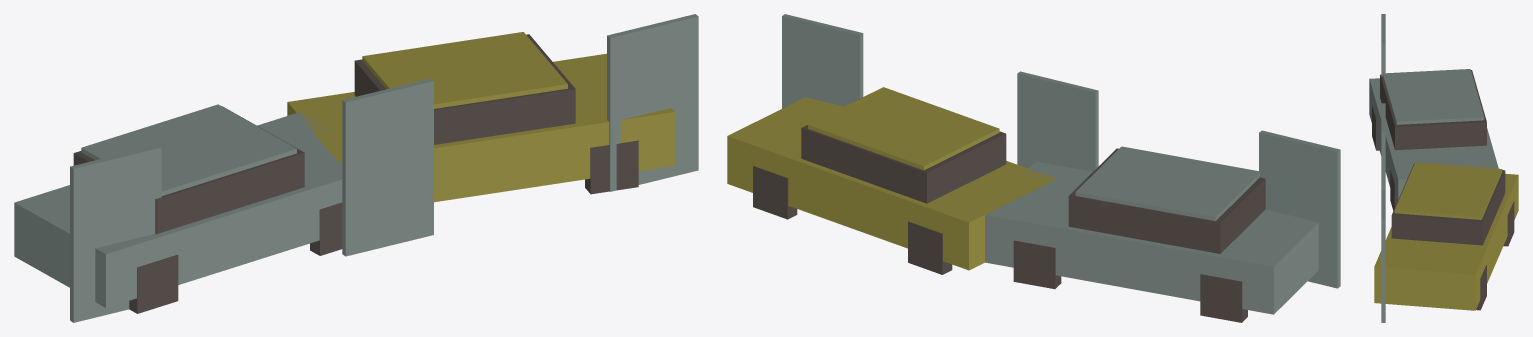
The model's file is SM_BarricadaCivil_v0_Coches_e0_Sano_LOD0.fbx.
3 renders of one model, left to right at view 1: azimuth 30°, elevation 25°; view 2: azimuth 150°, elevation 25°; view 3: azimuth 270°, elevation 25°, orthographic. The views are drawn at different scales.
Parts seen in each view (by area): view 1: SM_barricada_civil_v0_LOD0; view 2: SM_barricada_civil_v0_LOD0; view 3: SM_barricada_civil_v0_LOD0.
Part boxes in pixels (x1,y1,x2,y2): SM_barricada_civil_v0_LOD0: (14, 14, 698, 322); SM_barricada_civil_v0_LOD0: (727, 14, 1340, 322); SM_barricada_civil_v0_LOD0: (1369, 14, 1518, 322).
Bounding box in the file's own units: 8.5 × 2 × 2.61.
